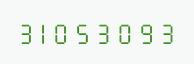five: (77, 20, 96, 44)
nine: (137, 20, 156, 44)
one: (37, 20, 56, 44)
three: (17, 20, 36, 44), (97, 20, 116, 44), (157, 20, 176, 44)
zero: (57, 20, 76, 44), (117, 20, 136, 44)
